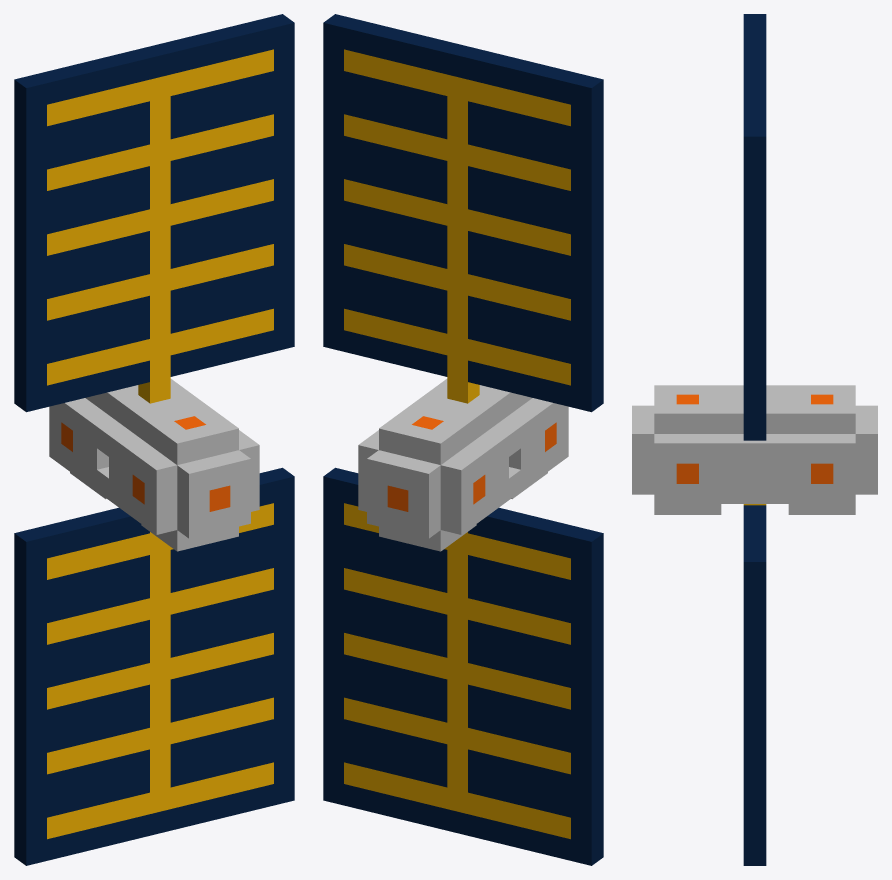
Rendered from sputnik.obj.
The picture shows the model from 3 angles, left to right: view 1: azimuth 30°, elevation 25°; view 2: azimuth 150°, elevation 25°; view 3: azimuth 270°, elevation 25°; orthographic projection. The views are drawn at different scales.
Bounding box in the file's own units: 1.3 × 3.6 × 1.1.
1 material, 1 textured.
